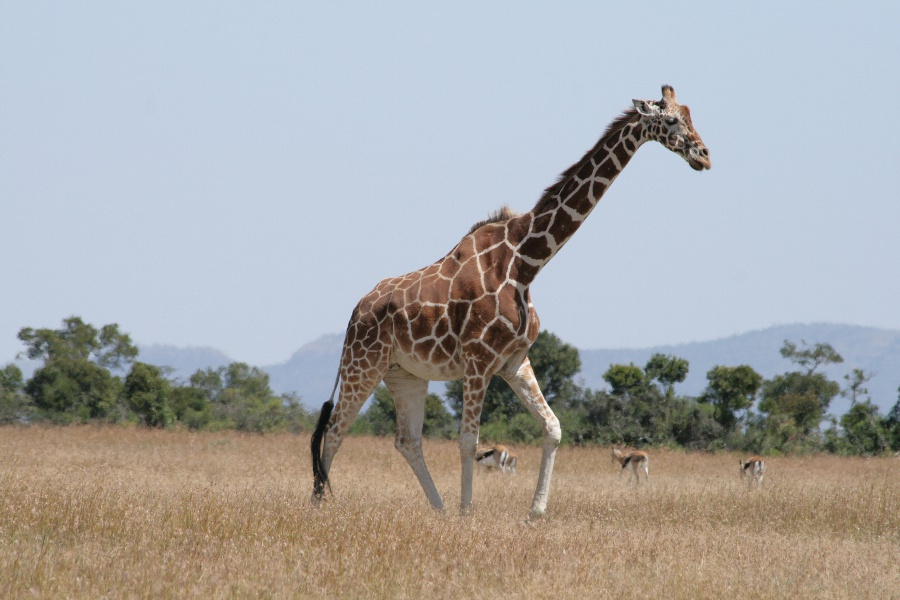giraffe: (303, 74, 715, 517)
